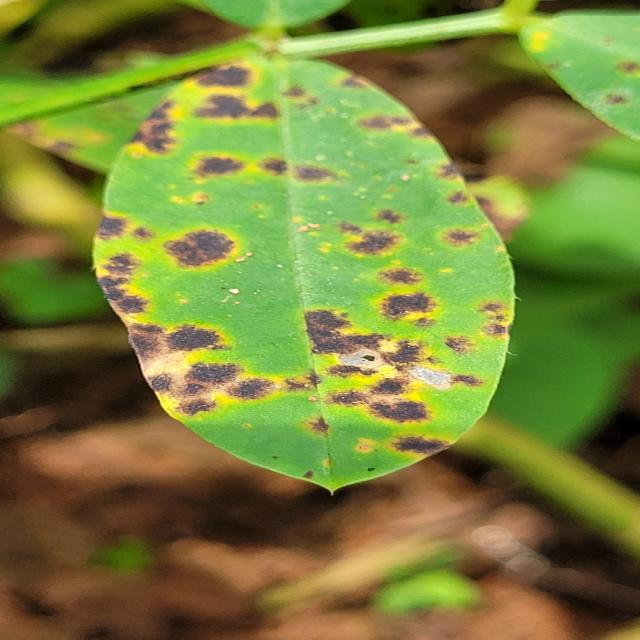Ground nut_tikka leaf spot: (94, 56, 524, 491)
